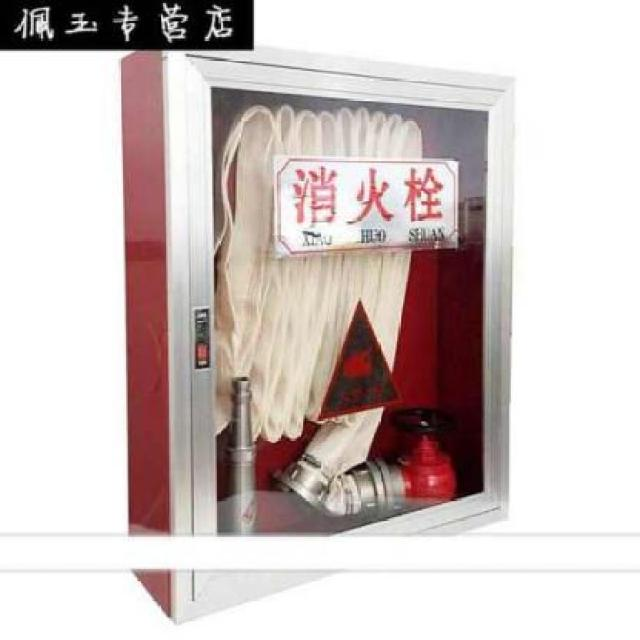firehydrant: (114, 29, 518, 630)
